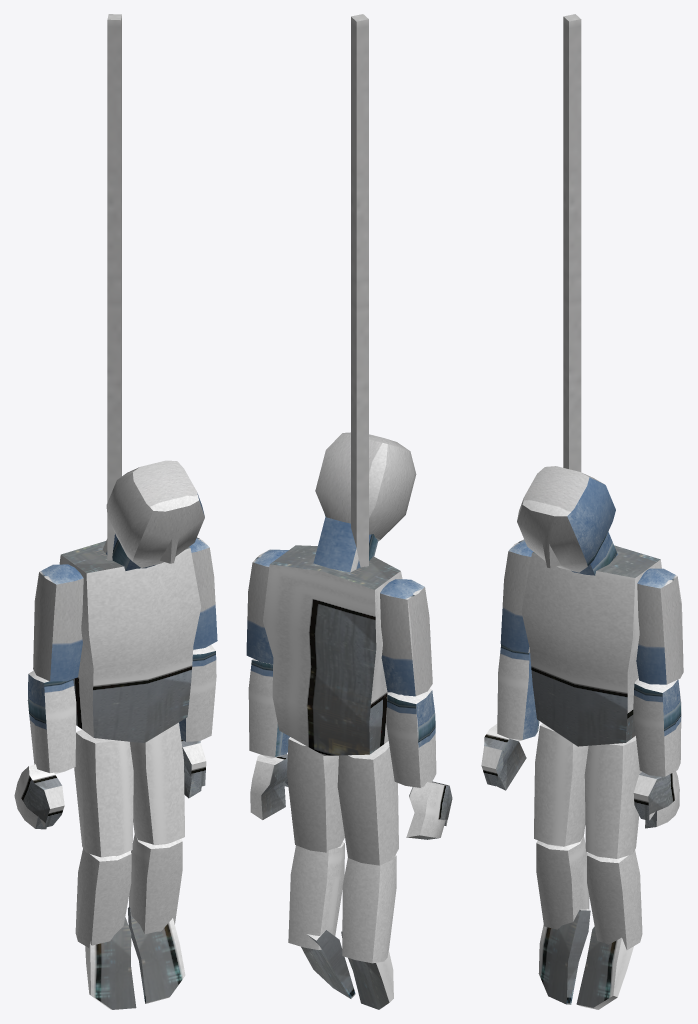
File: Corp_Pendu.FBX
The picture shows the model from 3 angles, left to right: view 1: azimuth 30°, elevation 25°; view 2: azimuth 150°, elevation 25°; view 3: azimuth 330°, elevation 25°; orthographic projection.
Parts seen in each view (by area): view 1: Pendu; view 2: Pendu; view 3: Pendu.
Part boxes in pixels (x1,y1,x2,y2): Pendu: (14, 14, 217, 1009); Pendu: (246, 14, 452, 1009); Pendu: (481, 14, 683, 1009).
Bounding box in the file's own units: 59.7 × 297 × 37.63.
